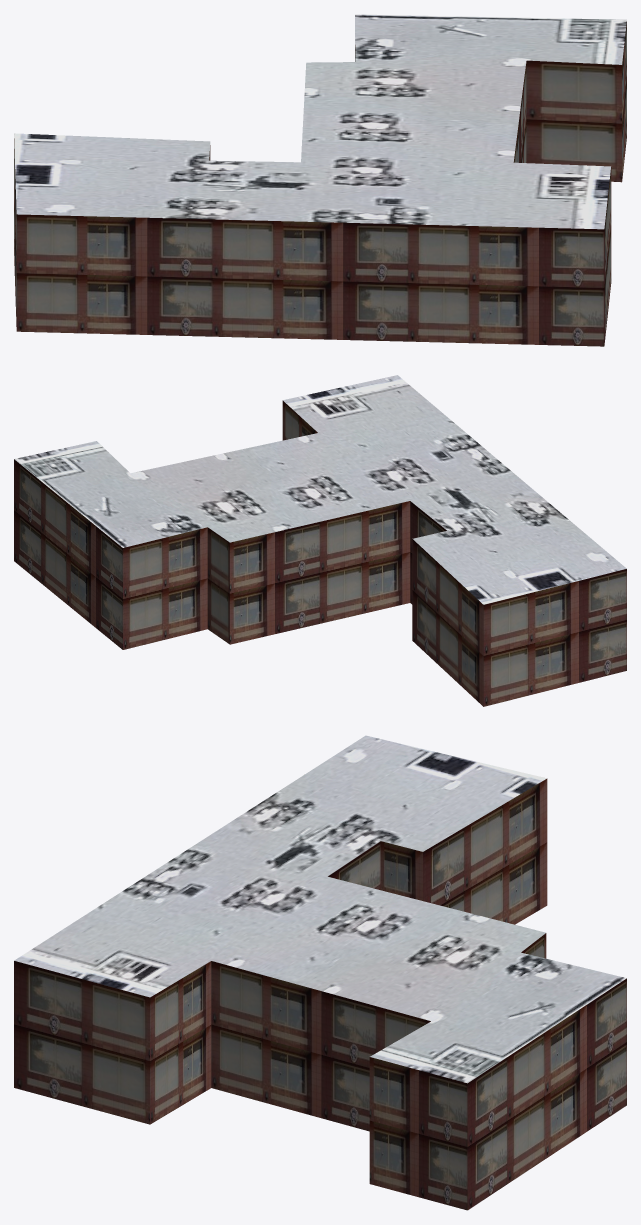
Rendered from ResTex__629.fbx.
3 views of the same model, one above another, from view 1: azimuth 30°, elevation 25°; view 2: azimuth 150°, elevation 25°; view 3: azimuth 270°, elevation 25° (orthographic). The views are drawn at different scales.
Visible parts, largest first — view 1: CityEngineMaterial_13_m, CityEngineMaterial_4_m; view 2: CityEngineMaterial_13_m, CityEngineMaterial_4_m; view 3: CityEngineMaterial_13_m, CityEngineMaterial_4_m.
Part boxes in pixels (x1,y1,x2,y2): CityEngineMaterial_13_m: (14, 21, 626, 346); CityEngineMaterial_4_m: (14, 14, 626, 229); CityEngineMaterial_13_m: (14, 400, 626, 706); CityEngineMaterial_4_m: (14, 375, 626, 604); CityEngineMaterial_13_m: (14, 778, 626, 1210); CityEngineMaterial_4_m: (14, 735, 626, 1083).
Bounding box in the file's own units: 35.2 × 6 × 26.21.
2 materials, 2 textured.
